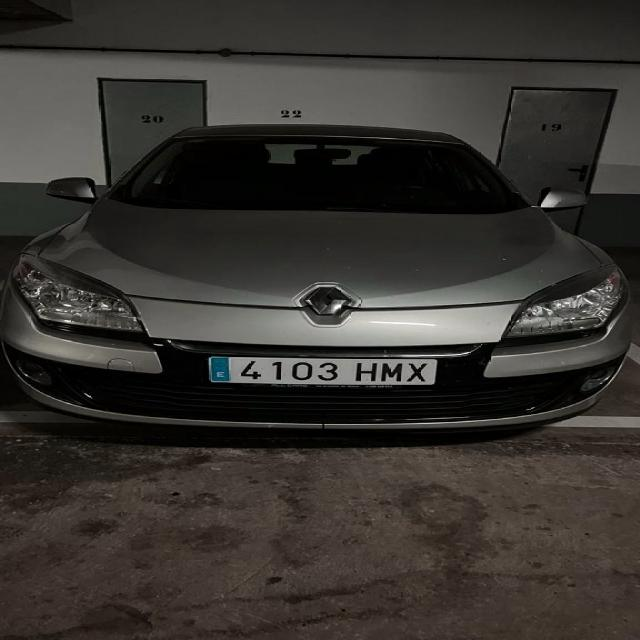License-Plate: (208, 356, 438, 388)
